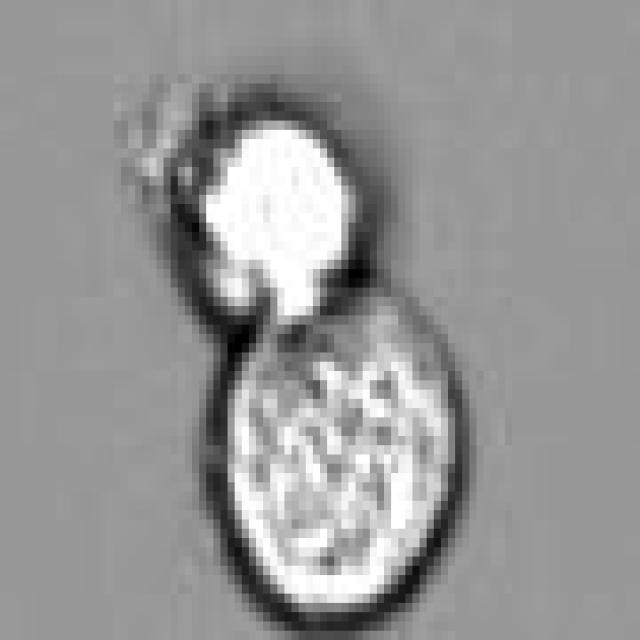Cancer Cell: (228, 287, 462, 603)
WBC: (170, 102, 356, 325)
